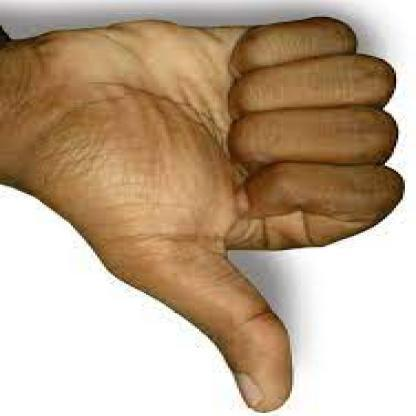thumb_down: (60, 14, 404, 413)
